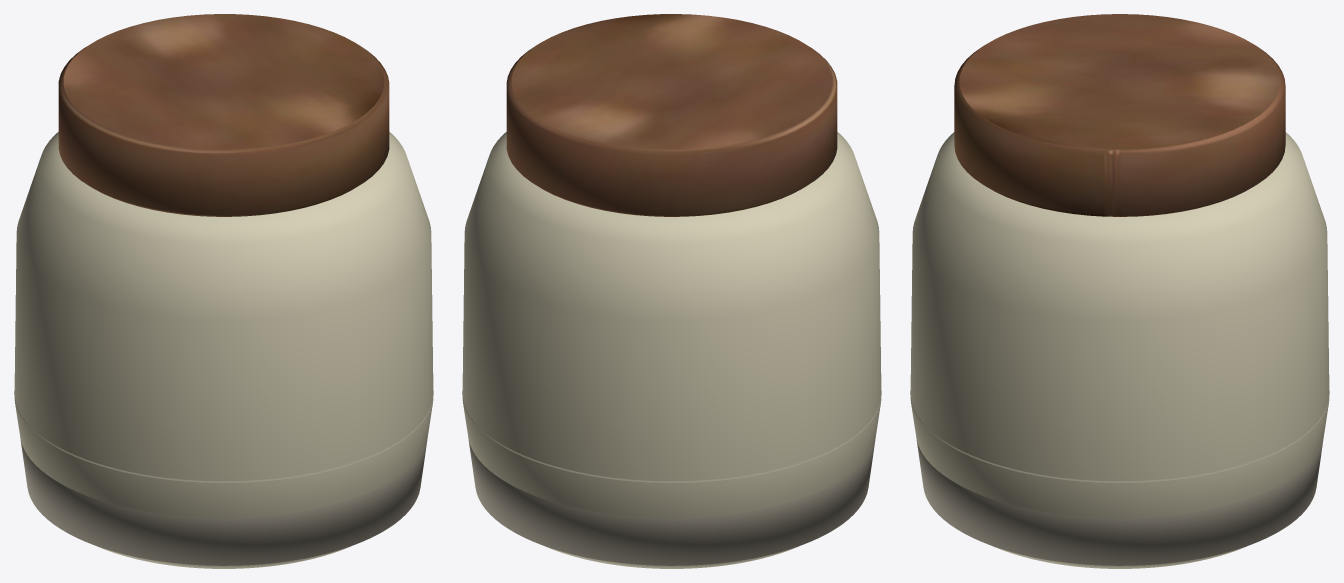
The model's file is counter_items__cream_jar.glb.
The picture shows the model from 3 angles, left to right: view 1: azimuth 30°, elevation 25°; view 2: azimuth 150°, elevation 25°; view 3: azimuth 270°, elevation 25°; orthographic projection.
Parts seen in each view (by area): view 1: body, lid; view 2: body, lid; view 3: body, lid.
Part boxes in pixels (x1,y1,x2,y2): body: (14, 132, 433, 568); lid: (58, 14, 389, 216); body: (462, 132, 881, 568); lid: (506, 14, 837, 216); body: (910, 132, 1329, 568); lid: (954, 14, 1285, 216).
Size of the model in its own units: 0.1029 by 0.1116 by 0.1029.
3 materials, 1 textured.
